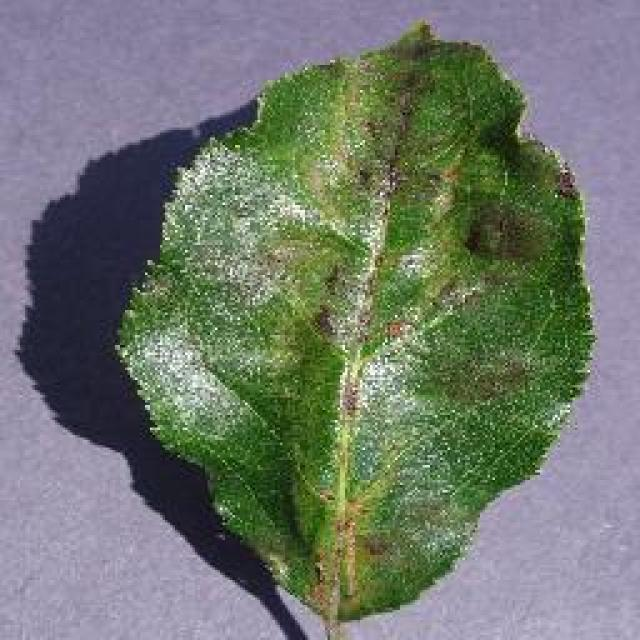apple scab disease: (112, 18, 598, 638)
